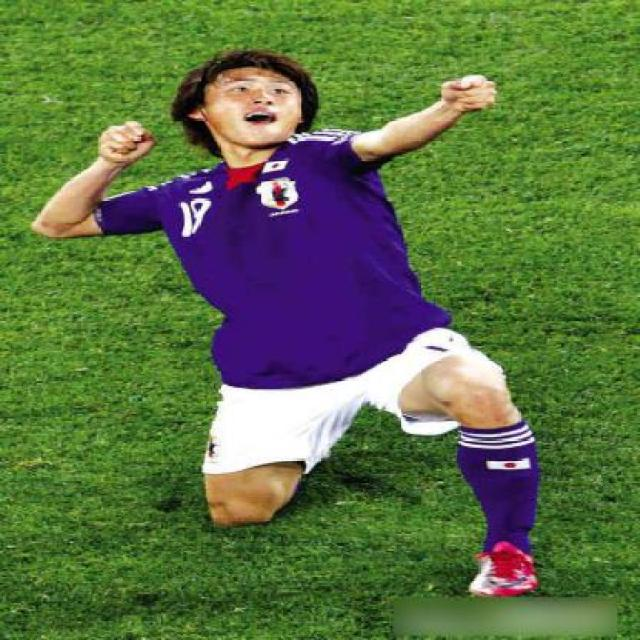Person: (20, 23, 638, 614)
